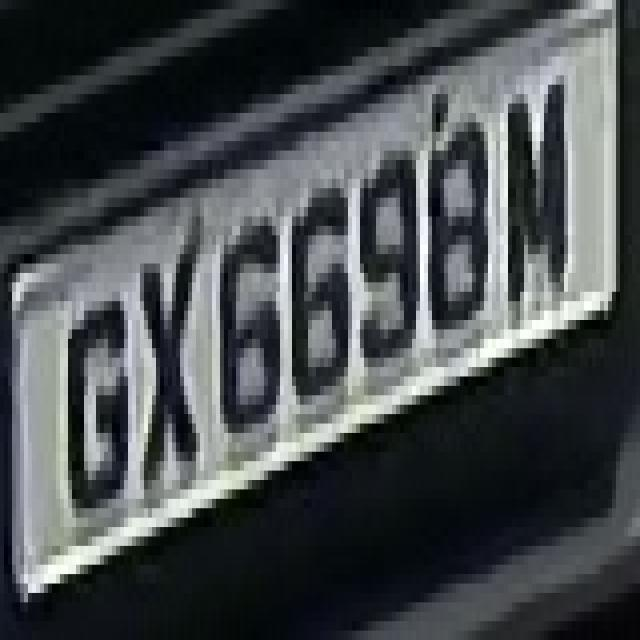6: (276, 132, 356, 424), (208, 179, 288, 461)
8: (424, 94, 492, 367)
9: (348, 113, 420, 376)
G: (52, 273, 132, 536)
M: (496, 66, 572, 339)
X: (128, 226, 204, 508)
